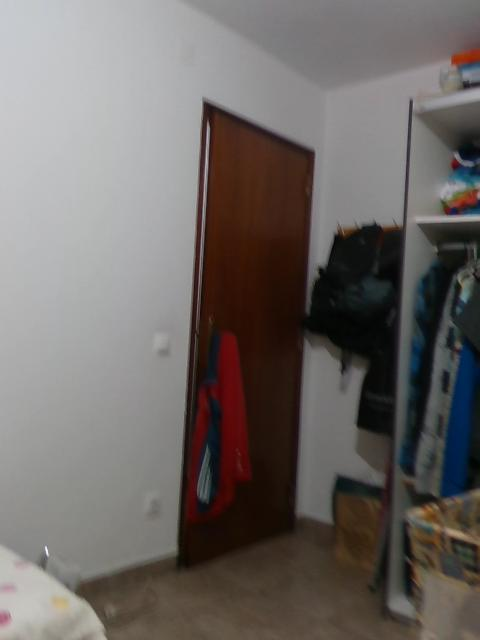door: (184, 112, 321, 561)
